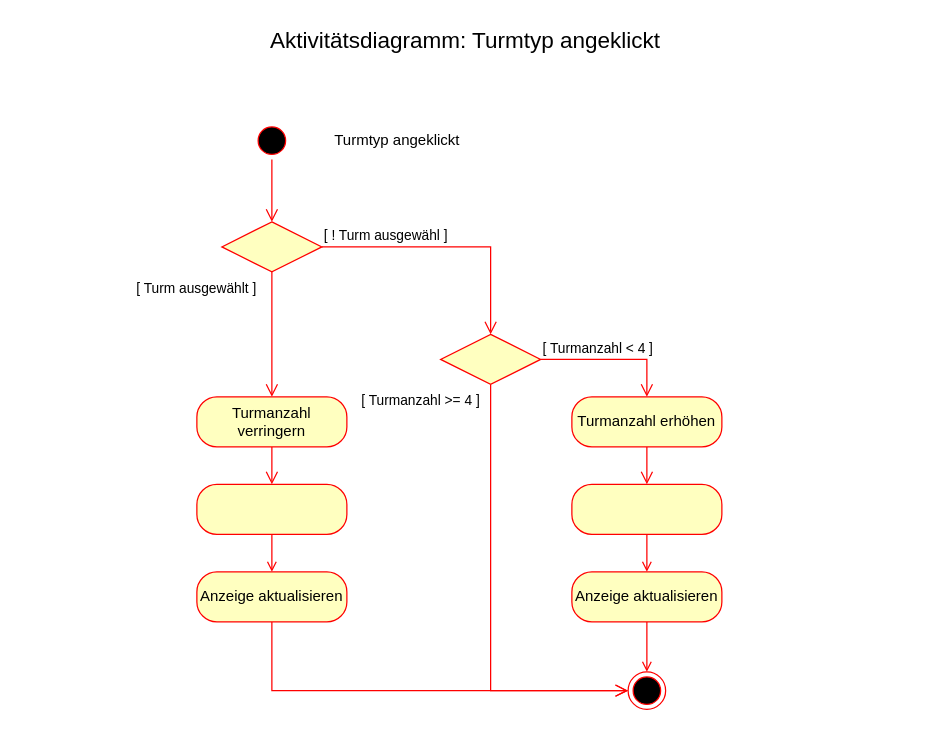
The diagram is 930 pixels wide and 731 high, and some of its shapes have lost their labels. The centre of each missing label's shape, as x and y in pixels:
"Turm löschen" goes at (271,508).
"Turm speichern" goes at (646,508).
